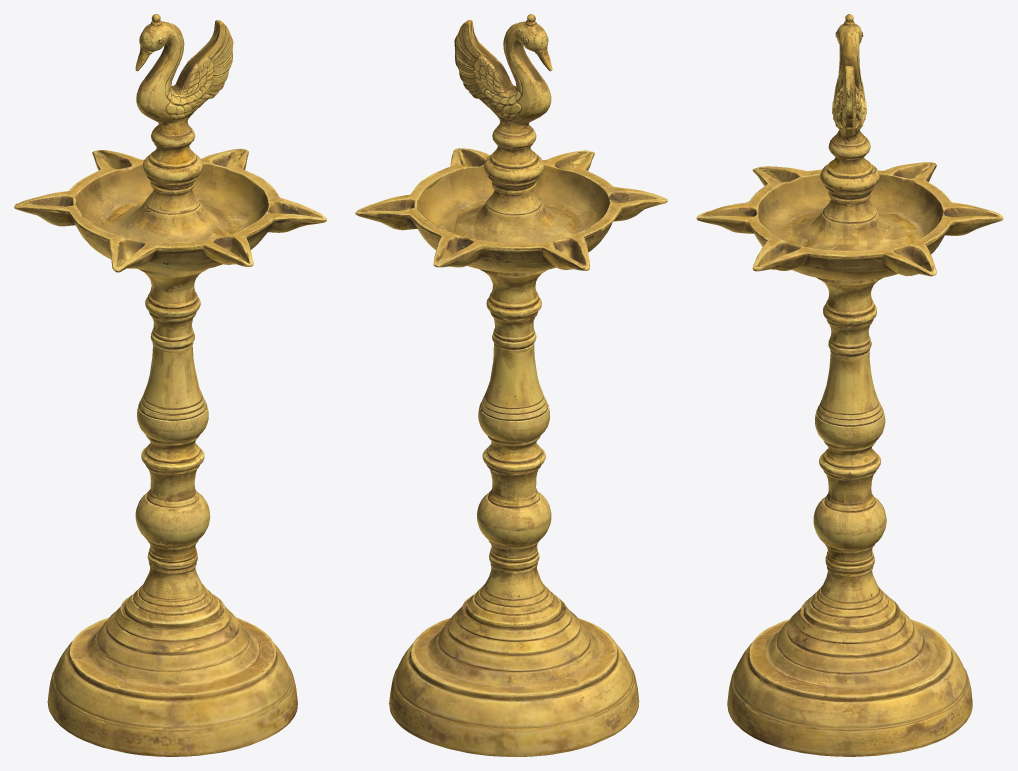
The model's file is w4vilakku.glb.
3 views of the same model, side by side, from view 1: azimuth 30°, elevation 25°; view 2: azimuth 150°, elevation 25°; view 3: azimuth 270°, elevation 25° (orthographic).
Visible parts, largest first — view 1: output_unwrapped; view 2: output_unwrapped; view 3: output_unwrapped.
Boxes of the visible parts, <box> form: output_unwrapped: <box>14,14,326,756</box>; output_unwrapped: <box>355,14,667,756</box>; output_unwrapped: <box>696,14,1003,756</box>.
Size of the model in its own units: 0.1581 by 0.45 by 0.1833.
1 material, 1 textured.
